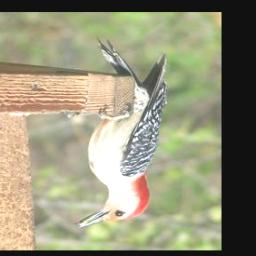Woodpecker: (72, 37, 166, 230)
